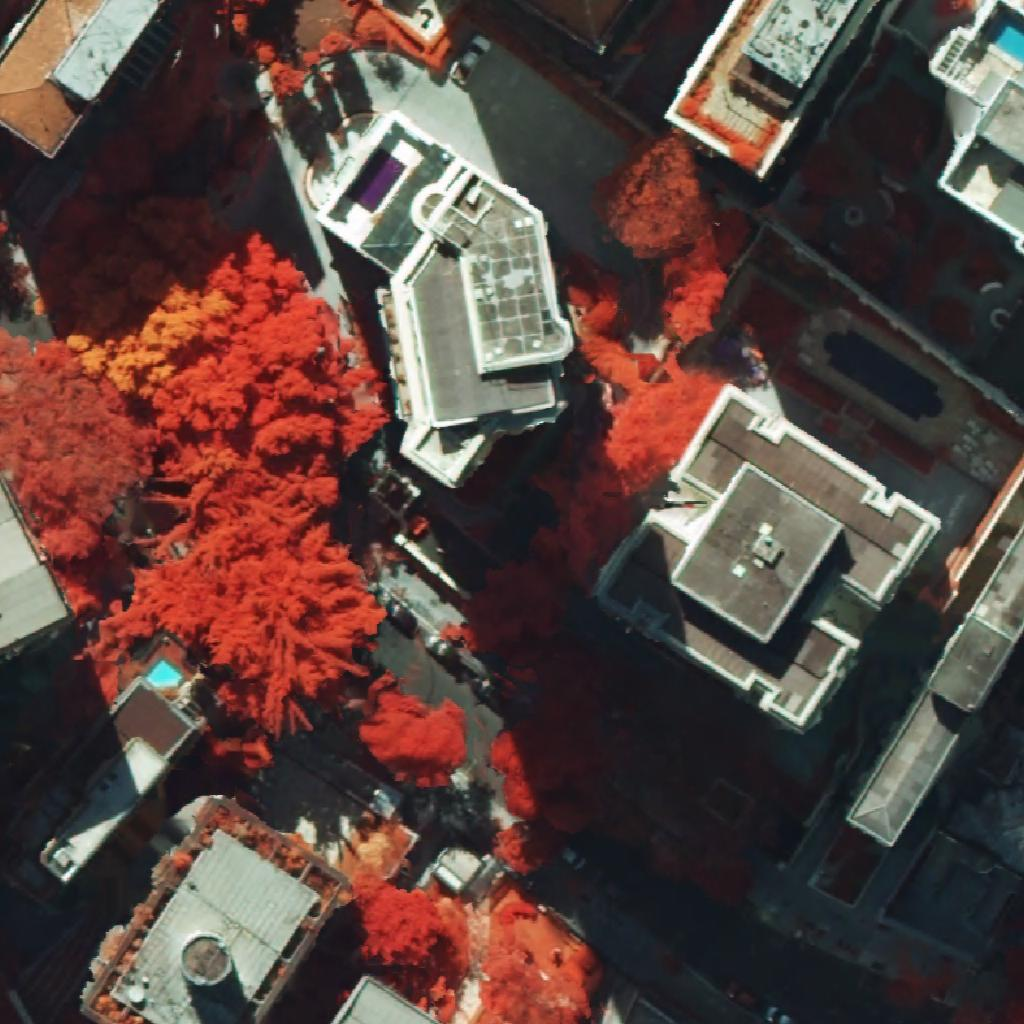pool: (824, 330, 943, 422), (346, 148, 406, 213), (987, 14, 1024, 65), (146, 658, 185, 687)
